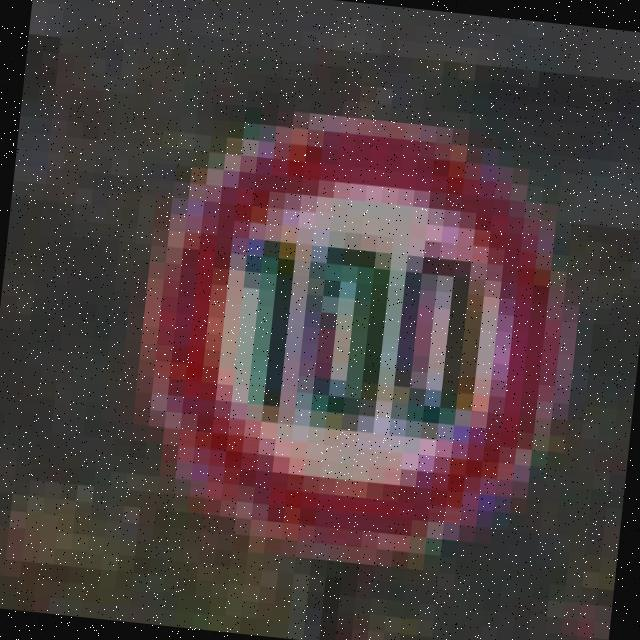Ograniczenie predkosci do 100: (136, 106, 575, 570)
